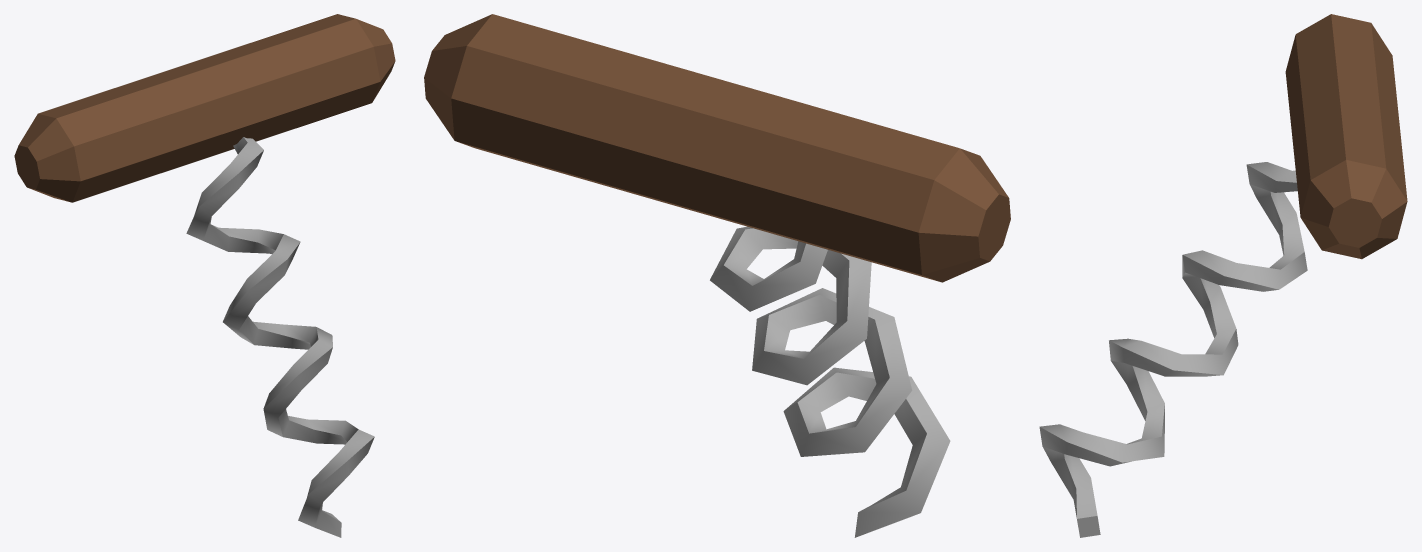
The model's file is shtopor.fbx.
3 views of the same model, side by side, from view 1: azimuth 30°, elevation 25°; view 2: azimuth 150°, elevation 25°; view 3: azimuth 270°, elevation 25° (orthographic). The views are drawn at different scales.
Visible parts, largest first — view 1: pHelix5; view 2: pHelix5; view 3: pHelix5.
Boxes of the visible parts, x1=… form: pHelix5: x1=14, y1=14, x2=395, y2=537; pHelix5: x1=424, y1=14, x2=1010, y2=537; pHelix5: x1=1039, y1=14, x2=1407, y2=537.
Size of the model in its own units: 0.475 by 0.4961 by 0.3668.
